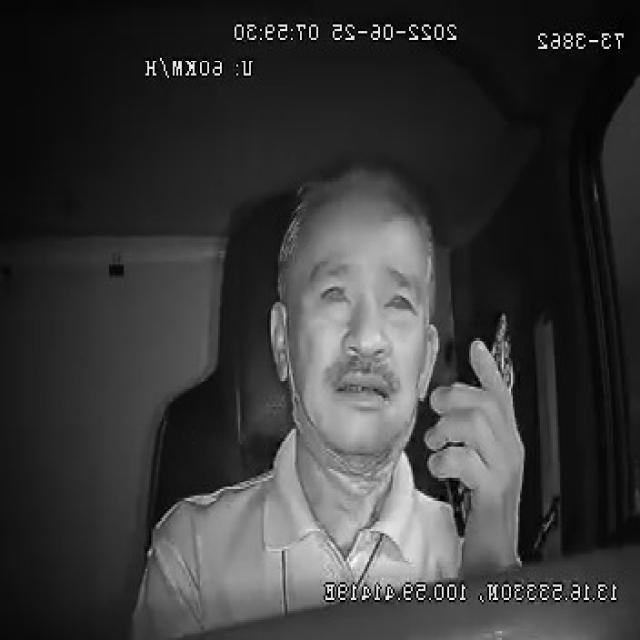phone: (446, 308, 516, 542)
